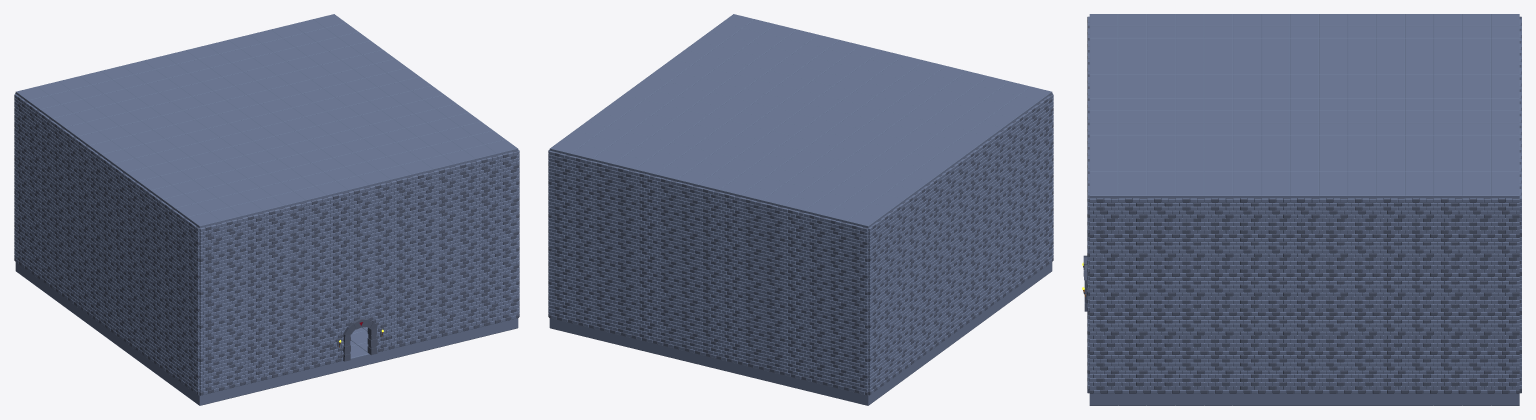
The model's file is CombatRoom_15x15.gltf.
3 renders of one model, left to right at view 1: azimuth 30°, elevation 25°; view 2: azimuth 150°, elevation 25°; view 3: azimuth 270°, elevation 25°, orthographic. The views are drawn at different scales.
Visible parts, largest first — view 1: ArchOpen, Wall_S_0_T4, Wall_S_0_T2, Wall_S_0_T0, Wall_S_0_T1, Wall_S_0_T3, Wall_S_3_T4, Wall_S_11_T4, Wall_S_12_T4, Wall_S_4_T4, Wall_S_5_T4, Wall_S_7_T4 (+79 smaller); view 2: Wall_N_0_T4, Wall_N_0_T2, Wall_N_0_T0, Wall_N_0_T1, Wall_N_0_T3, Wall_N_3_T4, Wall_N_11_T4, Wall_N_12_T4, Wall_N_4_T4, Wall_N_5_T4, Wall_N_7_T4, Wall_N_8_T4 (+81 smaller); view 3: Wall_E_0_T4, Wall_E_12_T4, Wall_E_3_T4, Wall_E_6_T4, Wall_E_9_T4, Wall_E_0_T0, Wall_E_0_T1, Wall_E_0_T2, Wall_E_0_T3, Wall_E_12_T0, Wall_E_12_T1, Wall_E_12_T2 (+78 smaller).
Boxes of the visible parts, box(x1,y1,x2,y2) form: ArchOpen: box(327, 316, 391, 364); Wall_S_0_T4: box(199, 223, 221, 262); Wall_S_0_T2: box(199, 290, 221, 328); Wall_S_0_T0: box(199, 357, 221, 395); Wall_S_0_T1: box(199, 324, 221, 362); Wall_S_0_T3: box(199, 257, 221, 295); Wall_S_3_T4: box(263, 207, 285, 246); Wall_S_11_T4: box(433, 166, 455, 205); Wall_S_12_T4: box(454, 161, 476, 199); Wall_S_4_T4: box(285, 202, 306, 241); Wall_S_5_T4: box(306, 197, 327, 236); Wall_S_7_T4: box(348, 187, 370, 225); Wall_N_0_T4: box(846, 223, 868, 262); Wall_N_0_T2: box(846, 290, 868, 328); Wall_N_0_T0: box(846, 357, 868, 395); Wall_N_0_T1: box(846, 324, 868, 362); Wall_N_0_T3: box(846, 257, 868, 295); Wall_N_3_T4: box(782, 207, 804, 246); Wall_N_11_T4: box(612, 166, 634, 205); Wall_N_12_T4: box(591, 161, 613, 199); Wall_N_4_T4: box(761, 202, 782, 241); Wall_N_5_T4: box(740, 197, 761, 236); Wall_N_7_T4: box(697, 187, 719, 225); Wall_N_8_T4: box(676, 182, 697, 220); Wall_E_0_T4: box(1089, 198, 1118, 237); Wall_E_12_T4: box(1433, 198, 1462, 237); Wall_E_3_T4: box(1175, 198, 1204, 237); Wall_E_6_T4: box(1261, 198, 1290, 237); Wall_E_9_T4: box(1347, 198, 1376, 237); Wall_E_0_T0: box(1089, 354, 1118, 393); Wall_E_0_T1: box(1089, 315, 1118, 354); Wall_E_0_T2: box(1089, 276, 1118, 315); Wall_E_0_T3: box(1089, 237, 1118, 276); Wall_E_12_T0: box(1433, 354, 1462, 393); Wall_E_12_T1: box(1433, 315, 1462, 354); Wall_E_12_T2: box(1433, 276, 1462, 315).
Size of the model in its own units: 30.3 by 16.2 by 30.67.
